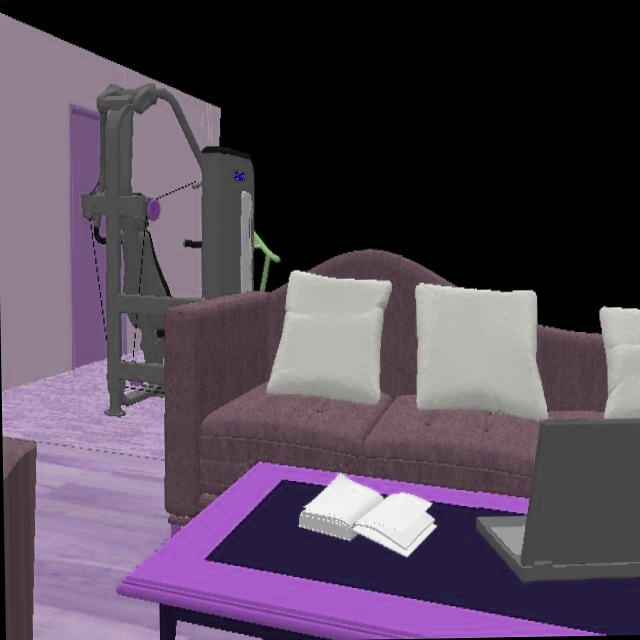book: (295, 475, 438, 560)
laptop: (477, 420, 640, 583)
pillow: (264, 270, 391, 422), (414, 284, 549, 421), (599, 307, 640, 423)
sofa: (163, 250, 539, 524), (2, 439, 39, 640), (537, 326, 608, 414)
table: (114, 463, 640, 640)
